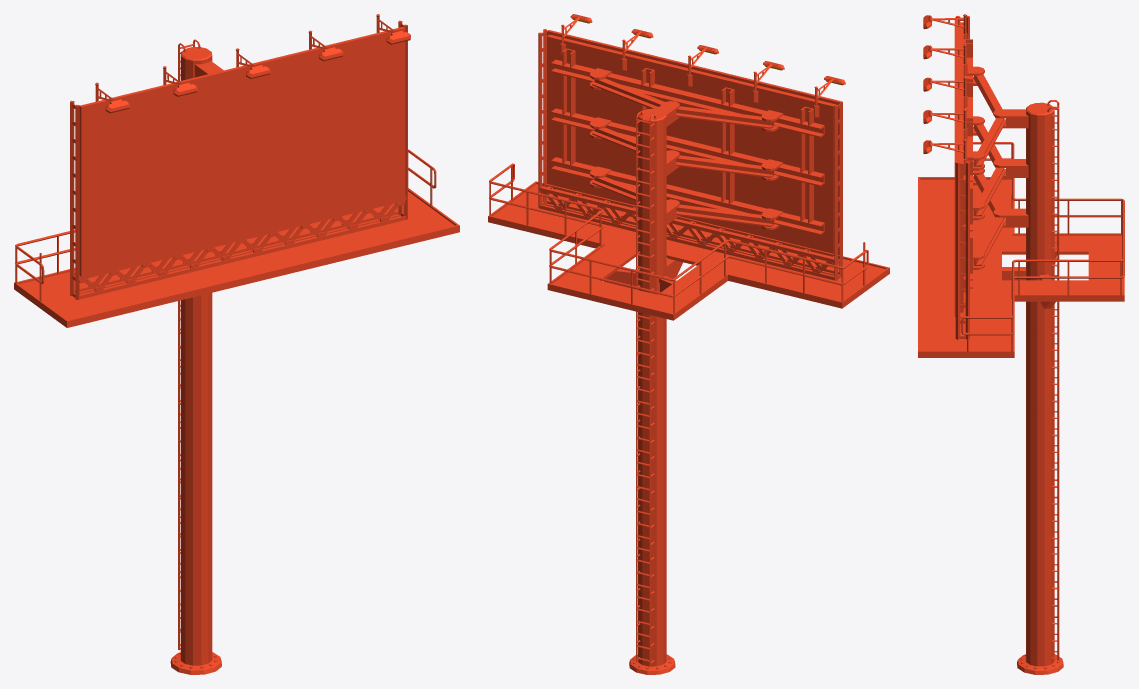
File: SM_Billboard_A_City.fbx
3 renders of one model, left to right at view 1: azimuth 30°, elevation 25°; view 2: azimuth 150°, elevation 25°; view 3: azimuth 270°, elevation 25°, orthographic. The views are drawn at different scales.
Parts seen in each view (by area): view 1: SM_Billboard_A_City; view 2: SM_Billboard_A_City; view 3: SM_Billboard_A_City.
Part boxes in pixels (x1,y1,x2,y2): SM_Billboard_A_City: [14, 14, 459, 674]; SM_Billboard_A_City: [488, 14, 889, 674]; SM_Billboard_A_City: [918, 14, 1124, 674].
Size of the model in its own units: 12.17 by 19.05 by 6.06.
